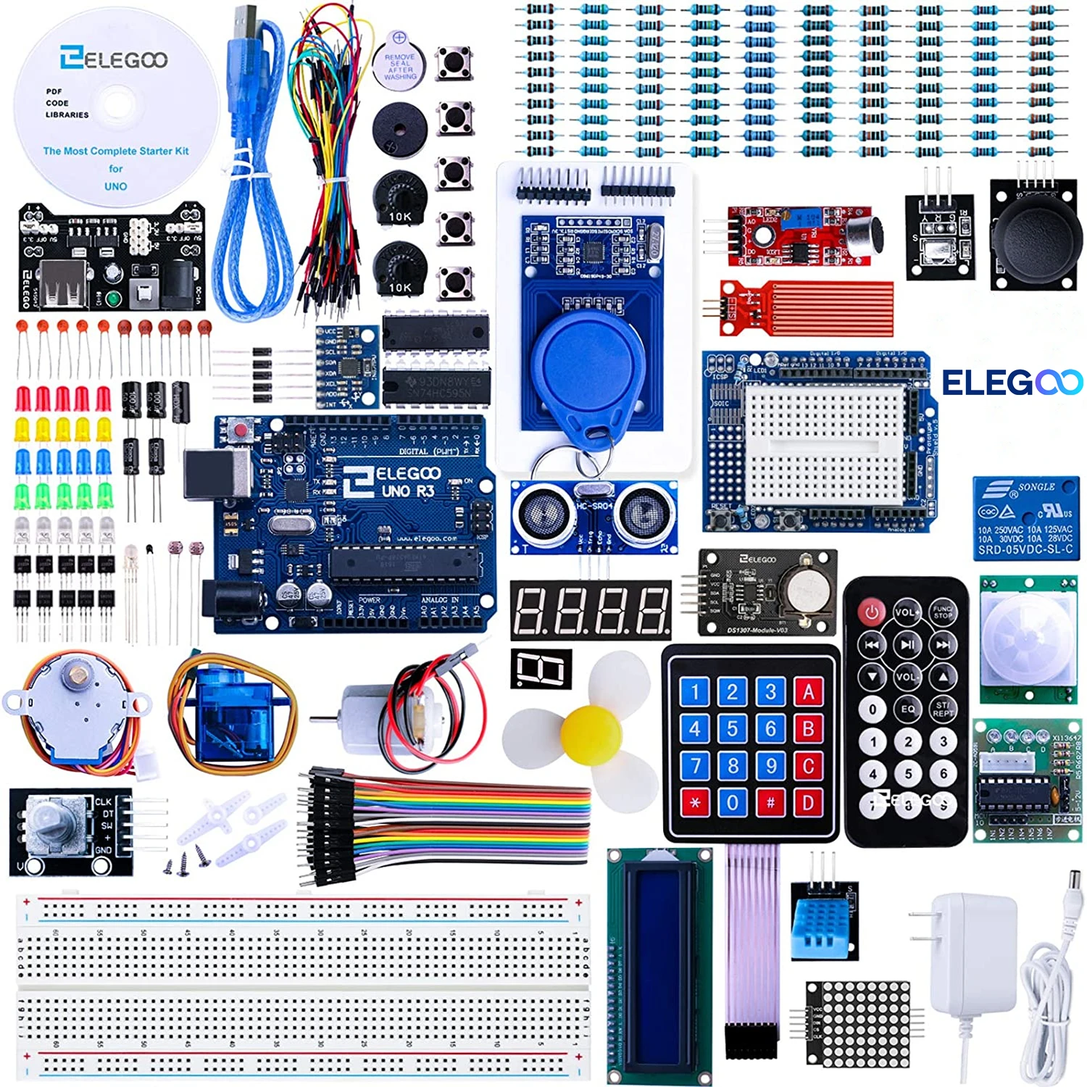Arduino: (180, 400, 500, 634)
Jumpers: (290, 765, 604, 887)
Protoboard: (11, 890, 591, 1081)
